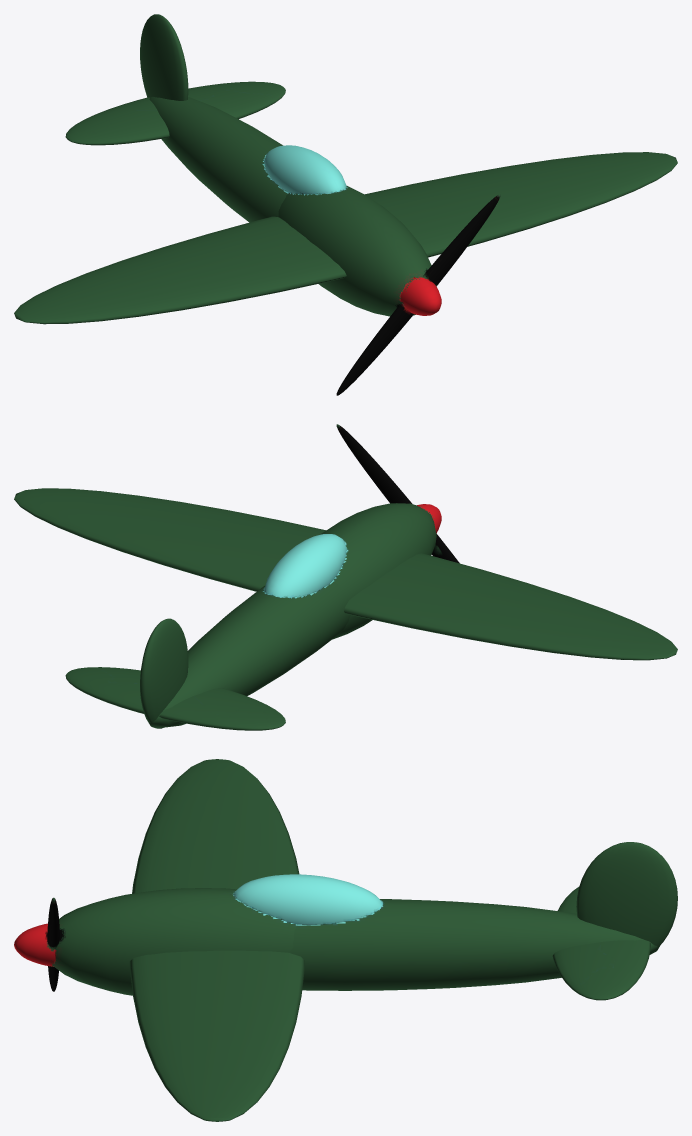
File: airplane2.3c7d82ab.glb
3 renders of one model, top to bottom at view 1: azimuth 30°, elevation 25°; view 2: azimuth 150°, elevation 25°; view 3: azimuth 270°, elevation 25°, orthographic. The views are drawn at different scales.
Visible parts, largest first — view 1: node_id39, node_id41, node_id43, node_id45; view 2: node_id39, node_id43, node_id41; view 3: node_id39, node_id43, node_id45, node_id41.
Part boxes in pixels (<box>): node_id39: <box>14,14,677,324</box>; node_id41: <box>336,194,500,395</box>; node_id43: <box>264,145,346,194</box>; node_id45: <box>400,276,441,315</box>; node_id39: <box>14,488,677,730</box>; node_id43: <box>264,534,346,597</box>; node_id41: <box>336,424,459,563</box>; node_id39: <box>53,759,677,1121</box>; node_id43: <box>233,874,383,925</box>; node_id45: <box>14,923,55,966</box>; node_id41: <box>47,897,59,991</box>.
Size of the model in its own units: 0.512 by 0.1274 by 0.3959.
4 materials, 4 textured.
